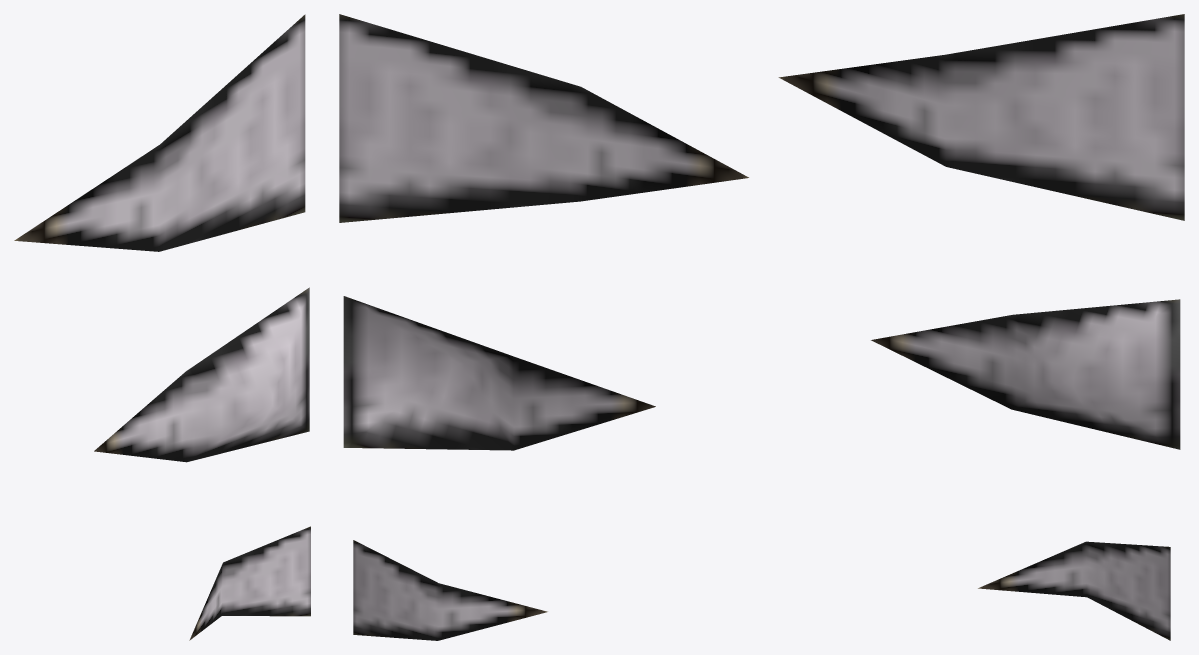
File: building_n_gate_flag.glb
The picture shows the model from 3 angles, left to right: view 1: azimuth 30°, elevation 25°; view 2: azimuth 150°, elevation 25°; view 3: azimuth 330°, elevation 25°; orthographic projection. The views are drawn at different scales.
Visible parts, largest first — view 1: MeshRoot; view 2: MeshRoot; view 3: MeshRoot.
Part boxes in pixels (x1,y1,x2,y2): MeshRoot: (14, 14, 310, 640); MeshRoot: (339, 14, 748, 640); MeshRoot: (778, 14, 1184, 640).
Size of the model in its own units: 0.6174 by 1.03 by 0.1533.
Materials: 1 (1 with a texture image).
